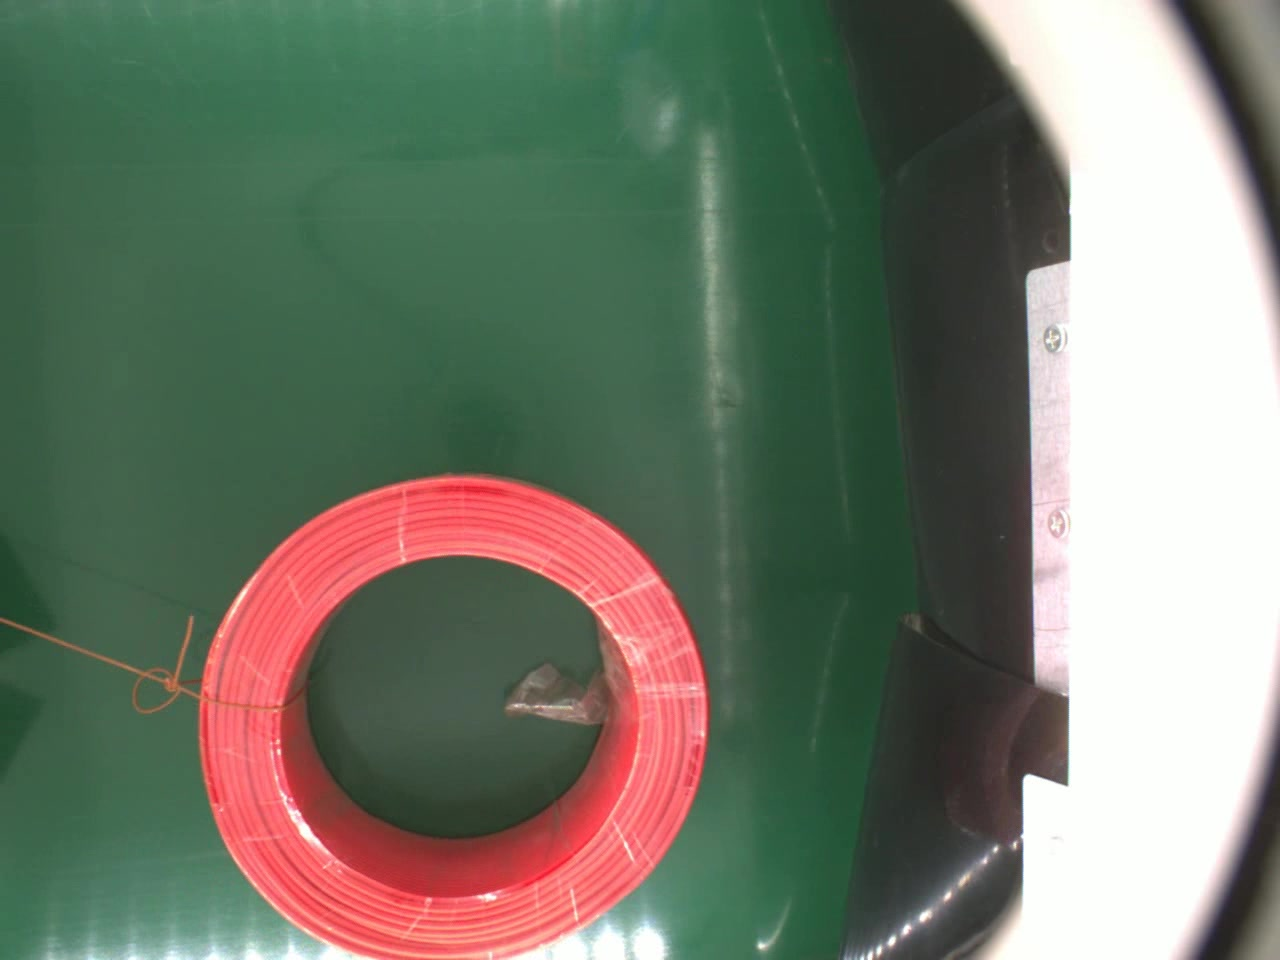red: (196, 474, 718, 960)
